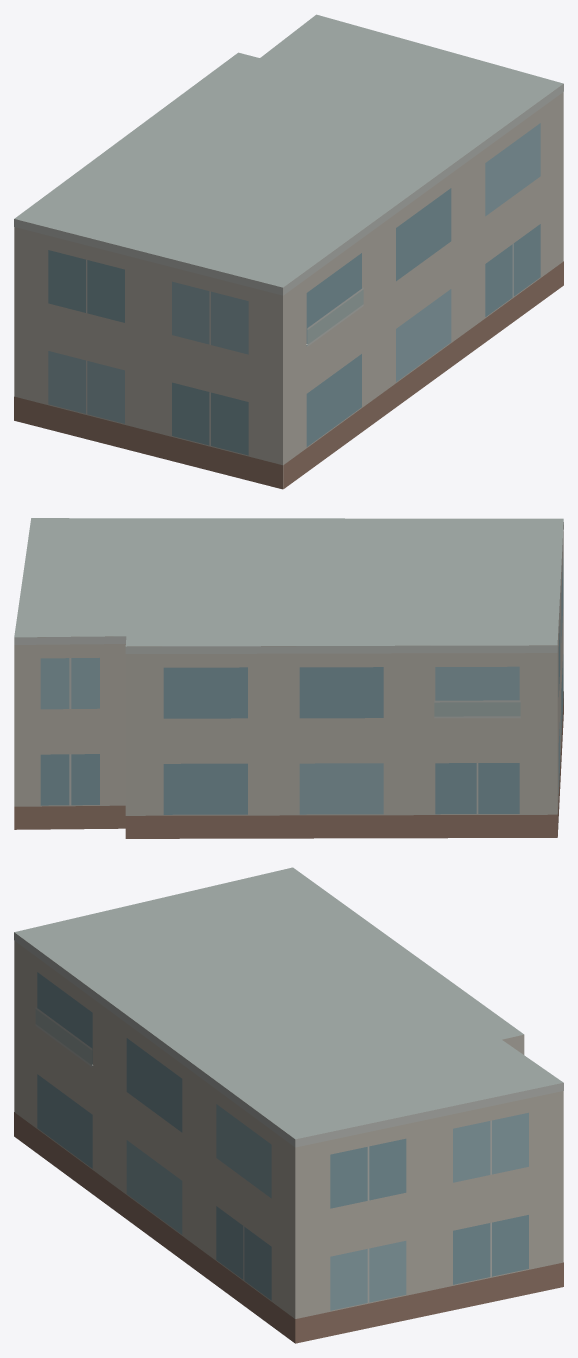
Rendered from survey-upis-32916781.glb.
3 views of the same model, one above another, from view 1: azimuth 30°, elevation 25°; view 2: azimuth 150°, elevation 25°; view 3: azimuth 270°, elevation 25° (orthographic). The views are drawn at different scales.
Parts seen in each view (by area): view 1: survey-upis-32916781.tmp; view 2: survey-upis-32916781.tmp; view 3: survey-upis-32916781.tmp.
Part boxes in pixels (x1=…): survey-upis-32916781.tmp: x1=14, y1=14, x2=563, y2=489; survey-upis-32916781.tmp: x1=14, y1=518, x2=563, y2=838; survey-upis-32916781.tmp: x1=14, y1=867, x2=563, y2=1343.
Size of the model in its own units: 17.44 by 6.1 by 14.89.
